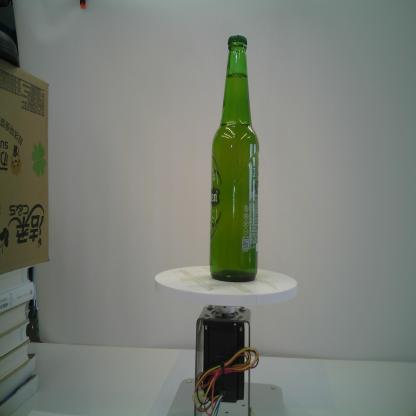Alcohol: (208, 32, 261, 284)
